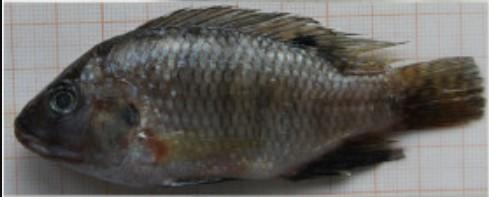Tilapia: (15, 1, 489, 197)
